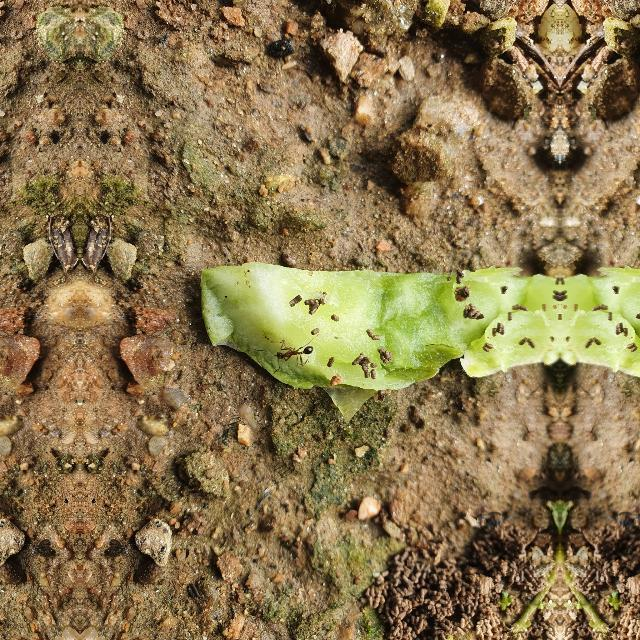Apheanogaster: (275, 338, 317, 367)
